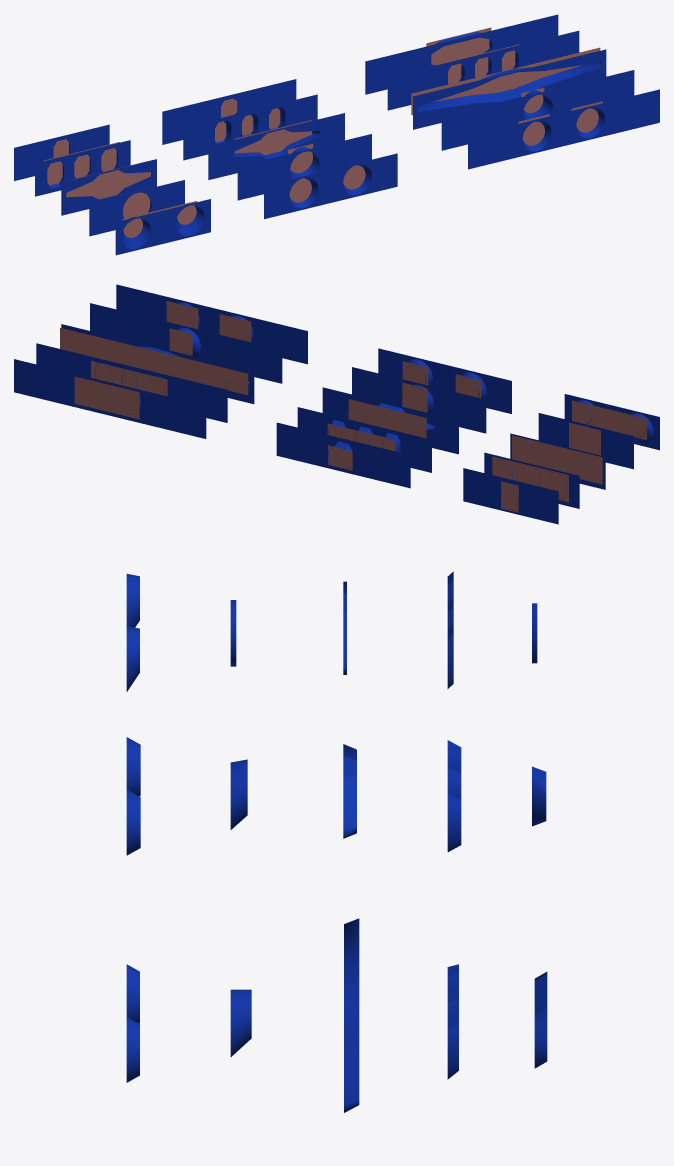
The model's file is Window Walls 15 Height.FBX.
3 renders of one model, top to bottom at view 1: azimuth 30°, elevation 25°; view 2: azimuth 150°, elevation 25°; view 3: azimuth 270°, elevation 25°, orthographic. The views are drawn at different scales.
Parts seen in each view (by area): view 1: Box076, Box078, Box075, Box073, Box072, Box047, Box045, Box046, Box044, Box033, Box043, Box031 (+3 smaller); view 2: Box072, Box075, Box078, Box076, Box043, Box073, Box046, Box045, Box047, Box026, Box044, Box032 (+3 smaller); view 3: Box078, Box047, Box044, Box076, Box033, Box073, Box075, Box072, Box045, Box046.
Part boxes in pixels (x1=…): Box076: x1=468, y1=89, x2=659, y2=169; Box078: x1=411, y1=47, x2=606, y2=129; Box075: x1=441, y1=70, x2=634, y2=150; Box073: x1=387, y1=30, x2=579, y2=110; Box072: x1=365, y1=14, x2=558, y2=94; Box047: x1=264, y1=153, x2=397, y2=219; Box045: x1=208, y1=113, x2=344, y2=179; Box046: x1=237, y1=134, x2=371, y2=200; Box044: x1=183, y1=94, x2=317, y2=160; Box033: x1=115, y1=199, x2=210, y2=255; Box043: x1=162, y1=79, x2=296, y2=144; Box031: x1=61, y1=159, x2=156, y2=215; Box072: x1=14, y1=359, x2=206, y2=438; Box075: x1=90, y1=303, x2=282, y2=383; Box078: x1=60, y1=324, x2=254, y2=404; Box076: x1=116, y1=284, x2=307, y2=364; Box043: x1=276, y1=422, x2=410, y2=488; Box073: x1=36, y1=343, x2=227, y2=422; Box046: x1=352, y1=367, x2=486, y2=433; Box045: x1=322, y1=387, x2=458, y2=454; Box047: x1=378, y1=348, x2=511, y2=413; Box026: x1=463, y1=468, x2=558, y2=524; Box044: x1=297, y1=407, x2=431, y2=472; Box032: x1=538, y1=413, x2=633, y2=469; Box078: x1=344, y1=918, x2=359, y2=1112; Box047: x1=126, y1=737, x2=140, y2=855; Box044: x1=447, y1=740, x2=461, y2=851; Box076: x1=126, y1=964, x2=139, y2=1082; Box033: x1=126, y1=574, x2=139, y2=691; Box073: x1=447, y1=964, x2=458, y2=1079; Box075: x1=230, y1=989, x2=251, y2=1057; Box072: x1=534, y1=972, x2=547, y2=1068; Box045: x1=343, y1=744, x2=356, y2=838; Box046: x1=230, y1=759, x2=247, y2=829.
Bounding box in the file's own units: 257 × 15.56 × 85.9.
